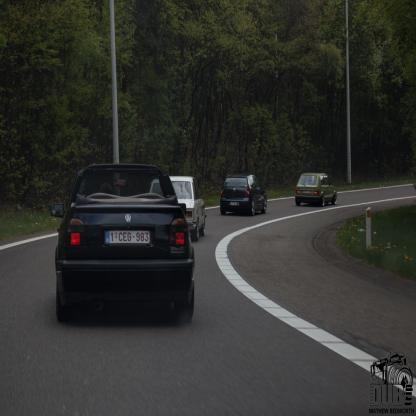Car: (52, 162, 197, 321), (152, 177, 208, 246), (221, 175, 268, 217), (296, 176, 339, 205)
